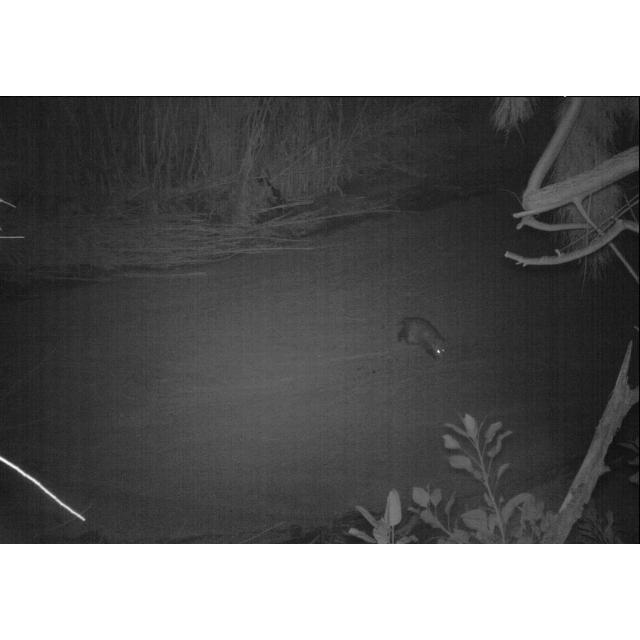animals: (394, 310, 446, 362)
